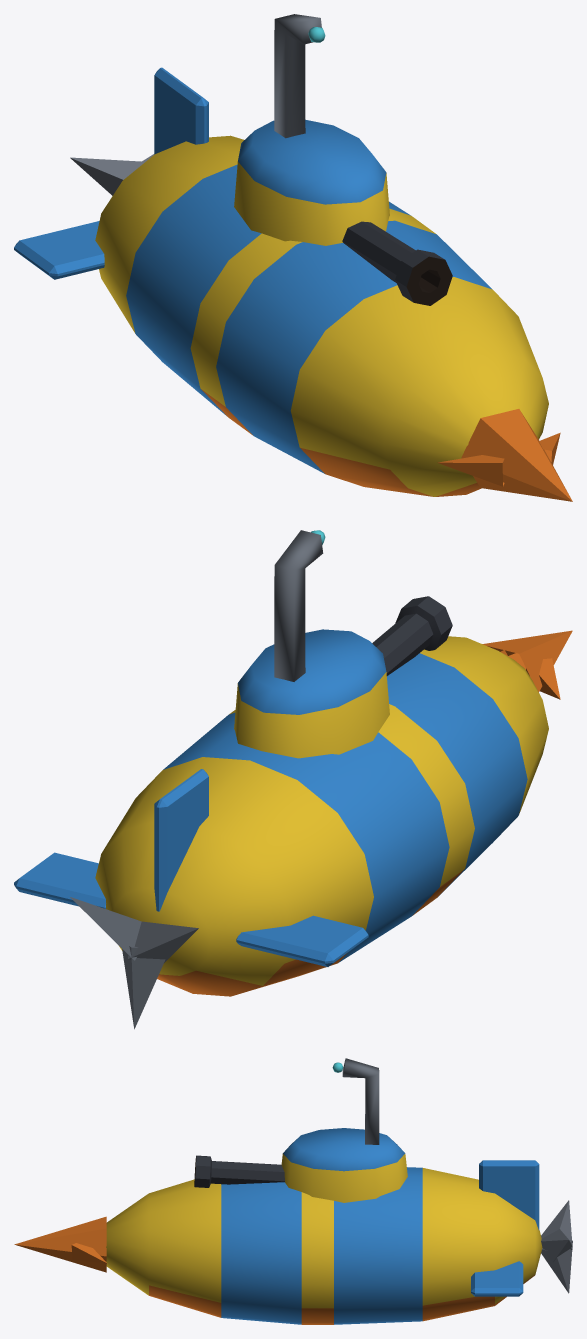
The picture shows the model from 3 angles, top to bottom: view 1: azimuth 30°, elevation 25°; view 2: azimuth 150°, elevation 25°; view 3: azimuth 270°, elevation 25°; orthographic projection. The views are drawn at different scales.
Parts seen in each view (by area): view 1: submarino_0_base, submarino_1_torreta; view 2: submarino_0_base, submarino_1_torreta; view 3: submarino_0_base, submarino_1_torreta.
Part boxes in pixels (x1=…): submarino_0_base: x1=14, y1=67, x2=572, y2=501; submarino_1_torreta: x1=234, y1=14, x2=452, y2=305; submarino_0_base: x1=14, y1=630, x2=572, y2=1029; submarino_1_torreta: x1=234, y1=530, x2=452, y2=758; submarino_0_base: x1=14, y1=1160, x2=572, y2=1324; submarino_1_torreta: x1=194, y1=1058, x2=407, y2=1202.
Bounding box in the file's own units: 0.58 × 0.6953 × 1.39.
